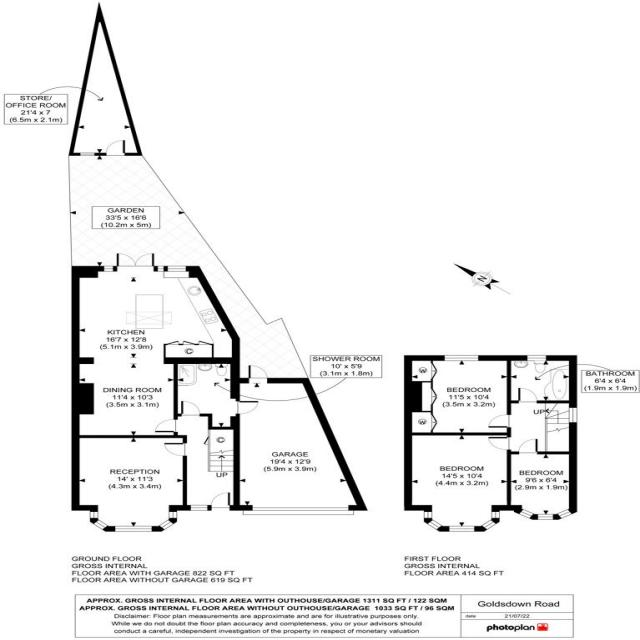DOOR: (210, 492, 232, 511), (486, 436, 512, 451), (163, 442, 187, 457), (235, 400, 259, 415), (518, 438, 539, 455), (180, 400, 201, 417), (517, 387, 539, 403), (487, 414, 512, 428), (154, 419, 178, 433)
DOUBLE DOOR: (113, 252, 156, 271)
ROOM: (71, 252, 240, 438), (71, 435, 187, 533), (404, 432, 511, 532), (404, 355, 511, 435), (507, 438, 577, 520)
WINDOW: (114, 525, 153, 532), (443, 355, 479, 362), (448, 525, 476, 533), (157, 519, 175, 531), (518, 508, 535, 520), (480, 519, 497, 531), (426, 519, 443, 531), (92, 519, 109, 531), (556, 508, 574, 519), (568, 407, 578, 424), (526, 354, 547, 362), (166, 265, 188, 272), (189, 504, 209, 511), (537, 513, 554, 520), (491, 511, 501, 519), (423, 511, 433, 519), (168, 511, 178, 519), (89, 511, 99, 519), (103, 265, 114, 272), (157, 265, 164, 272)
